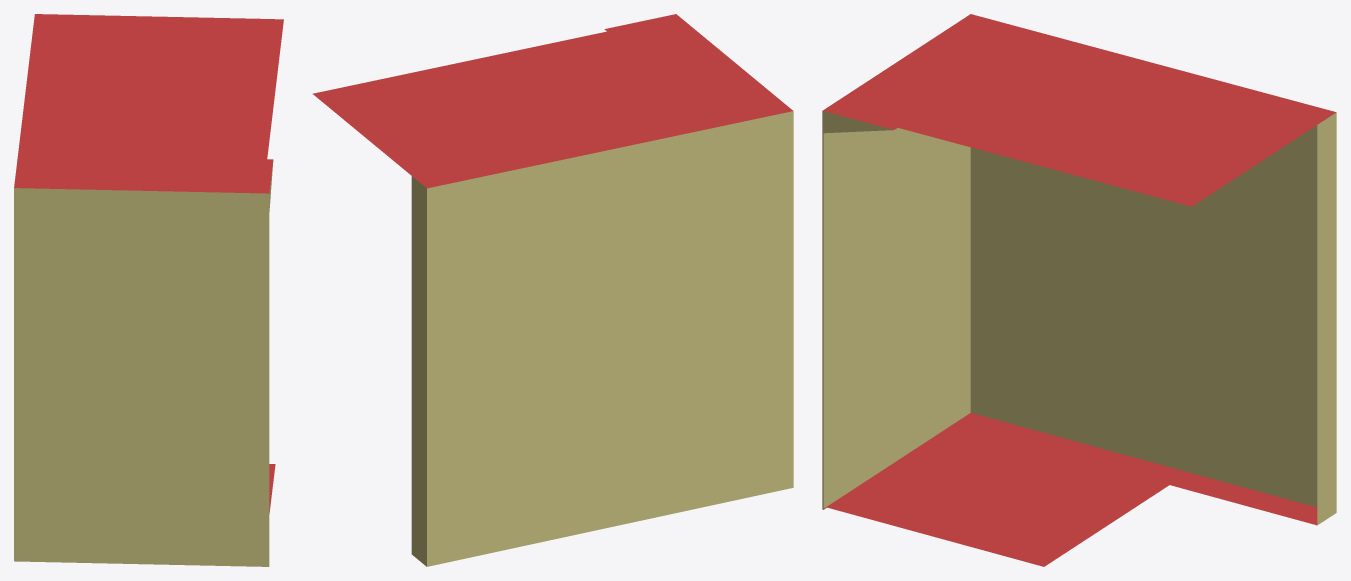
3 views of the same model, side by side, from view 1: azimuth 30°, elevation 25°; view 2: azimuth 150°, elevation 25°; view 3: azimuth 270°, elevation 25° (orthographic). The views are drawn at different scales.
Size of the model in its own units: 9.74 by 10.87 by 9.35.
